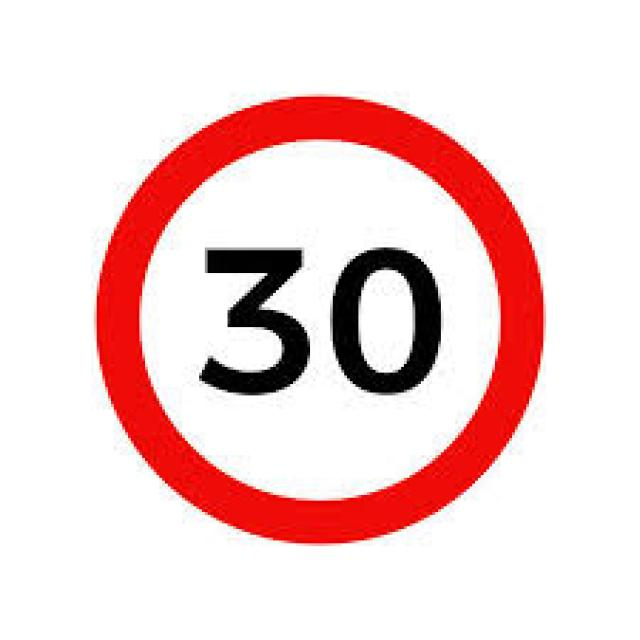Speed limit 30: (89, 89, 550, 547)
